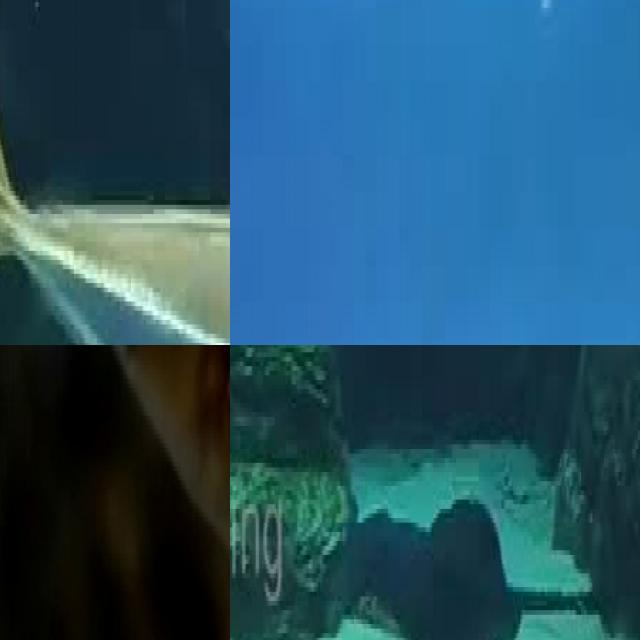fish: (0, 0, 230, 345), (79, 345, 230, 640)
